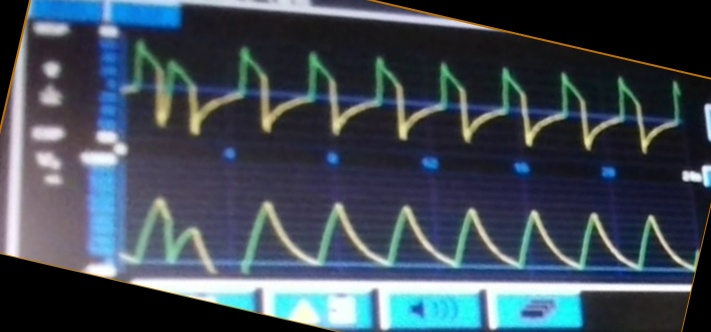Double_Triggering Flow: (126, 38, 668, 151)
Double_Triggering Volume: (125, 185, 668, 276)
